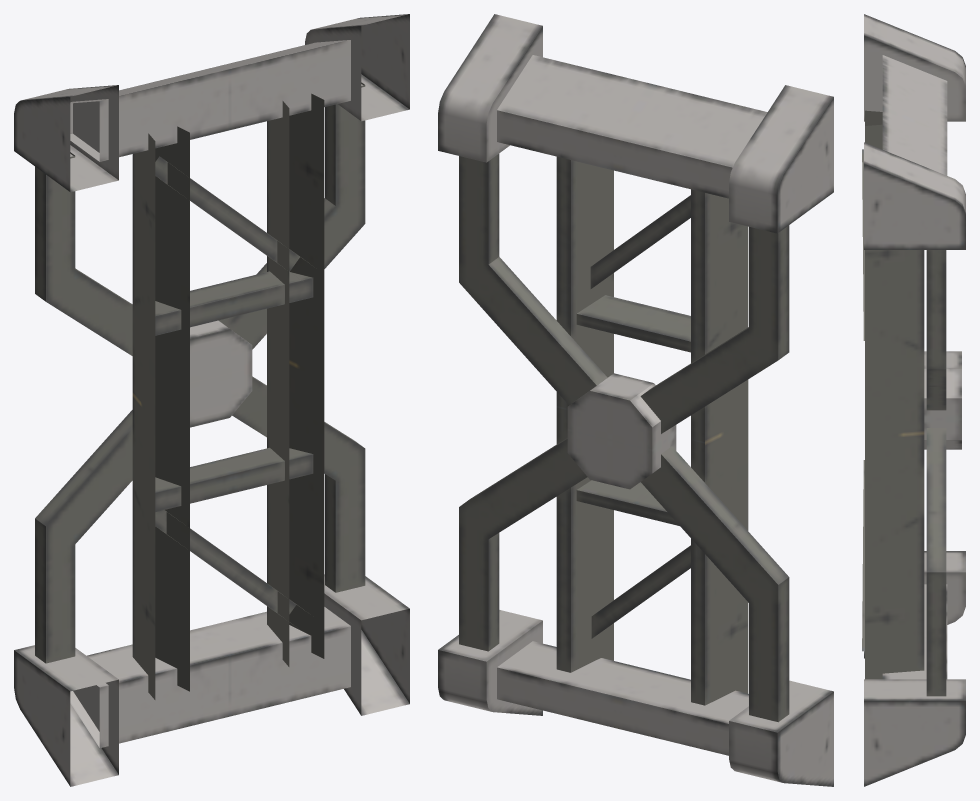
Rendered from Pfb_Soda_Prison__3.fbx.
3 renders of one model, left to right at view 1: azimuth 30°, elevation 25°; view 2: azimuth 150°, elevation 25°; view 3: azimuth 270°, elevation 25°, orthographic. The views are drawn at different scales.
Parts seen in each view (by area): view 1: jail_part_2; view 2: jail_part_2; view 3: jail_part_2.
Part boxes in pixels (box(x1,y1,x2,y2)): jail_part_2: box(14, 14, 409, 786); jail_part_2: box(438, 14, 833, 786); jail_part_2: box(862, 14, 965, 786).
Bounding box in the file's own units: 2.59 × 5.04 × 0.7597.
1 material, 1 textured.
